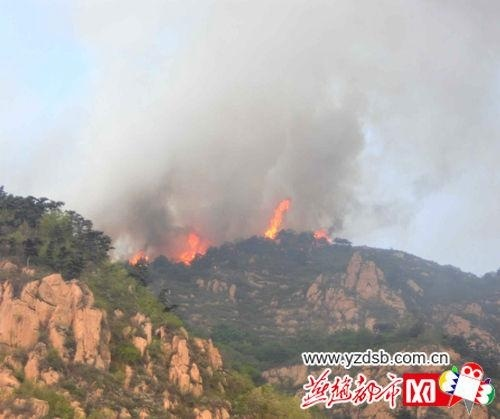fire: (165, 229, 211, 264), (262, 197, 291, 240), (126, 247, 151, 266), (313, 227, 334, 242)
